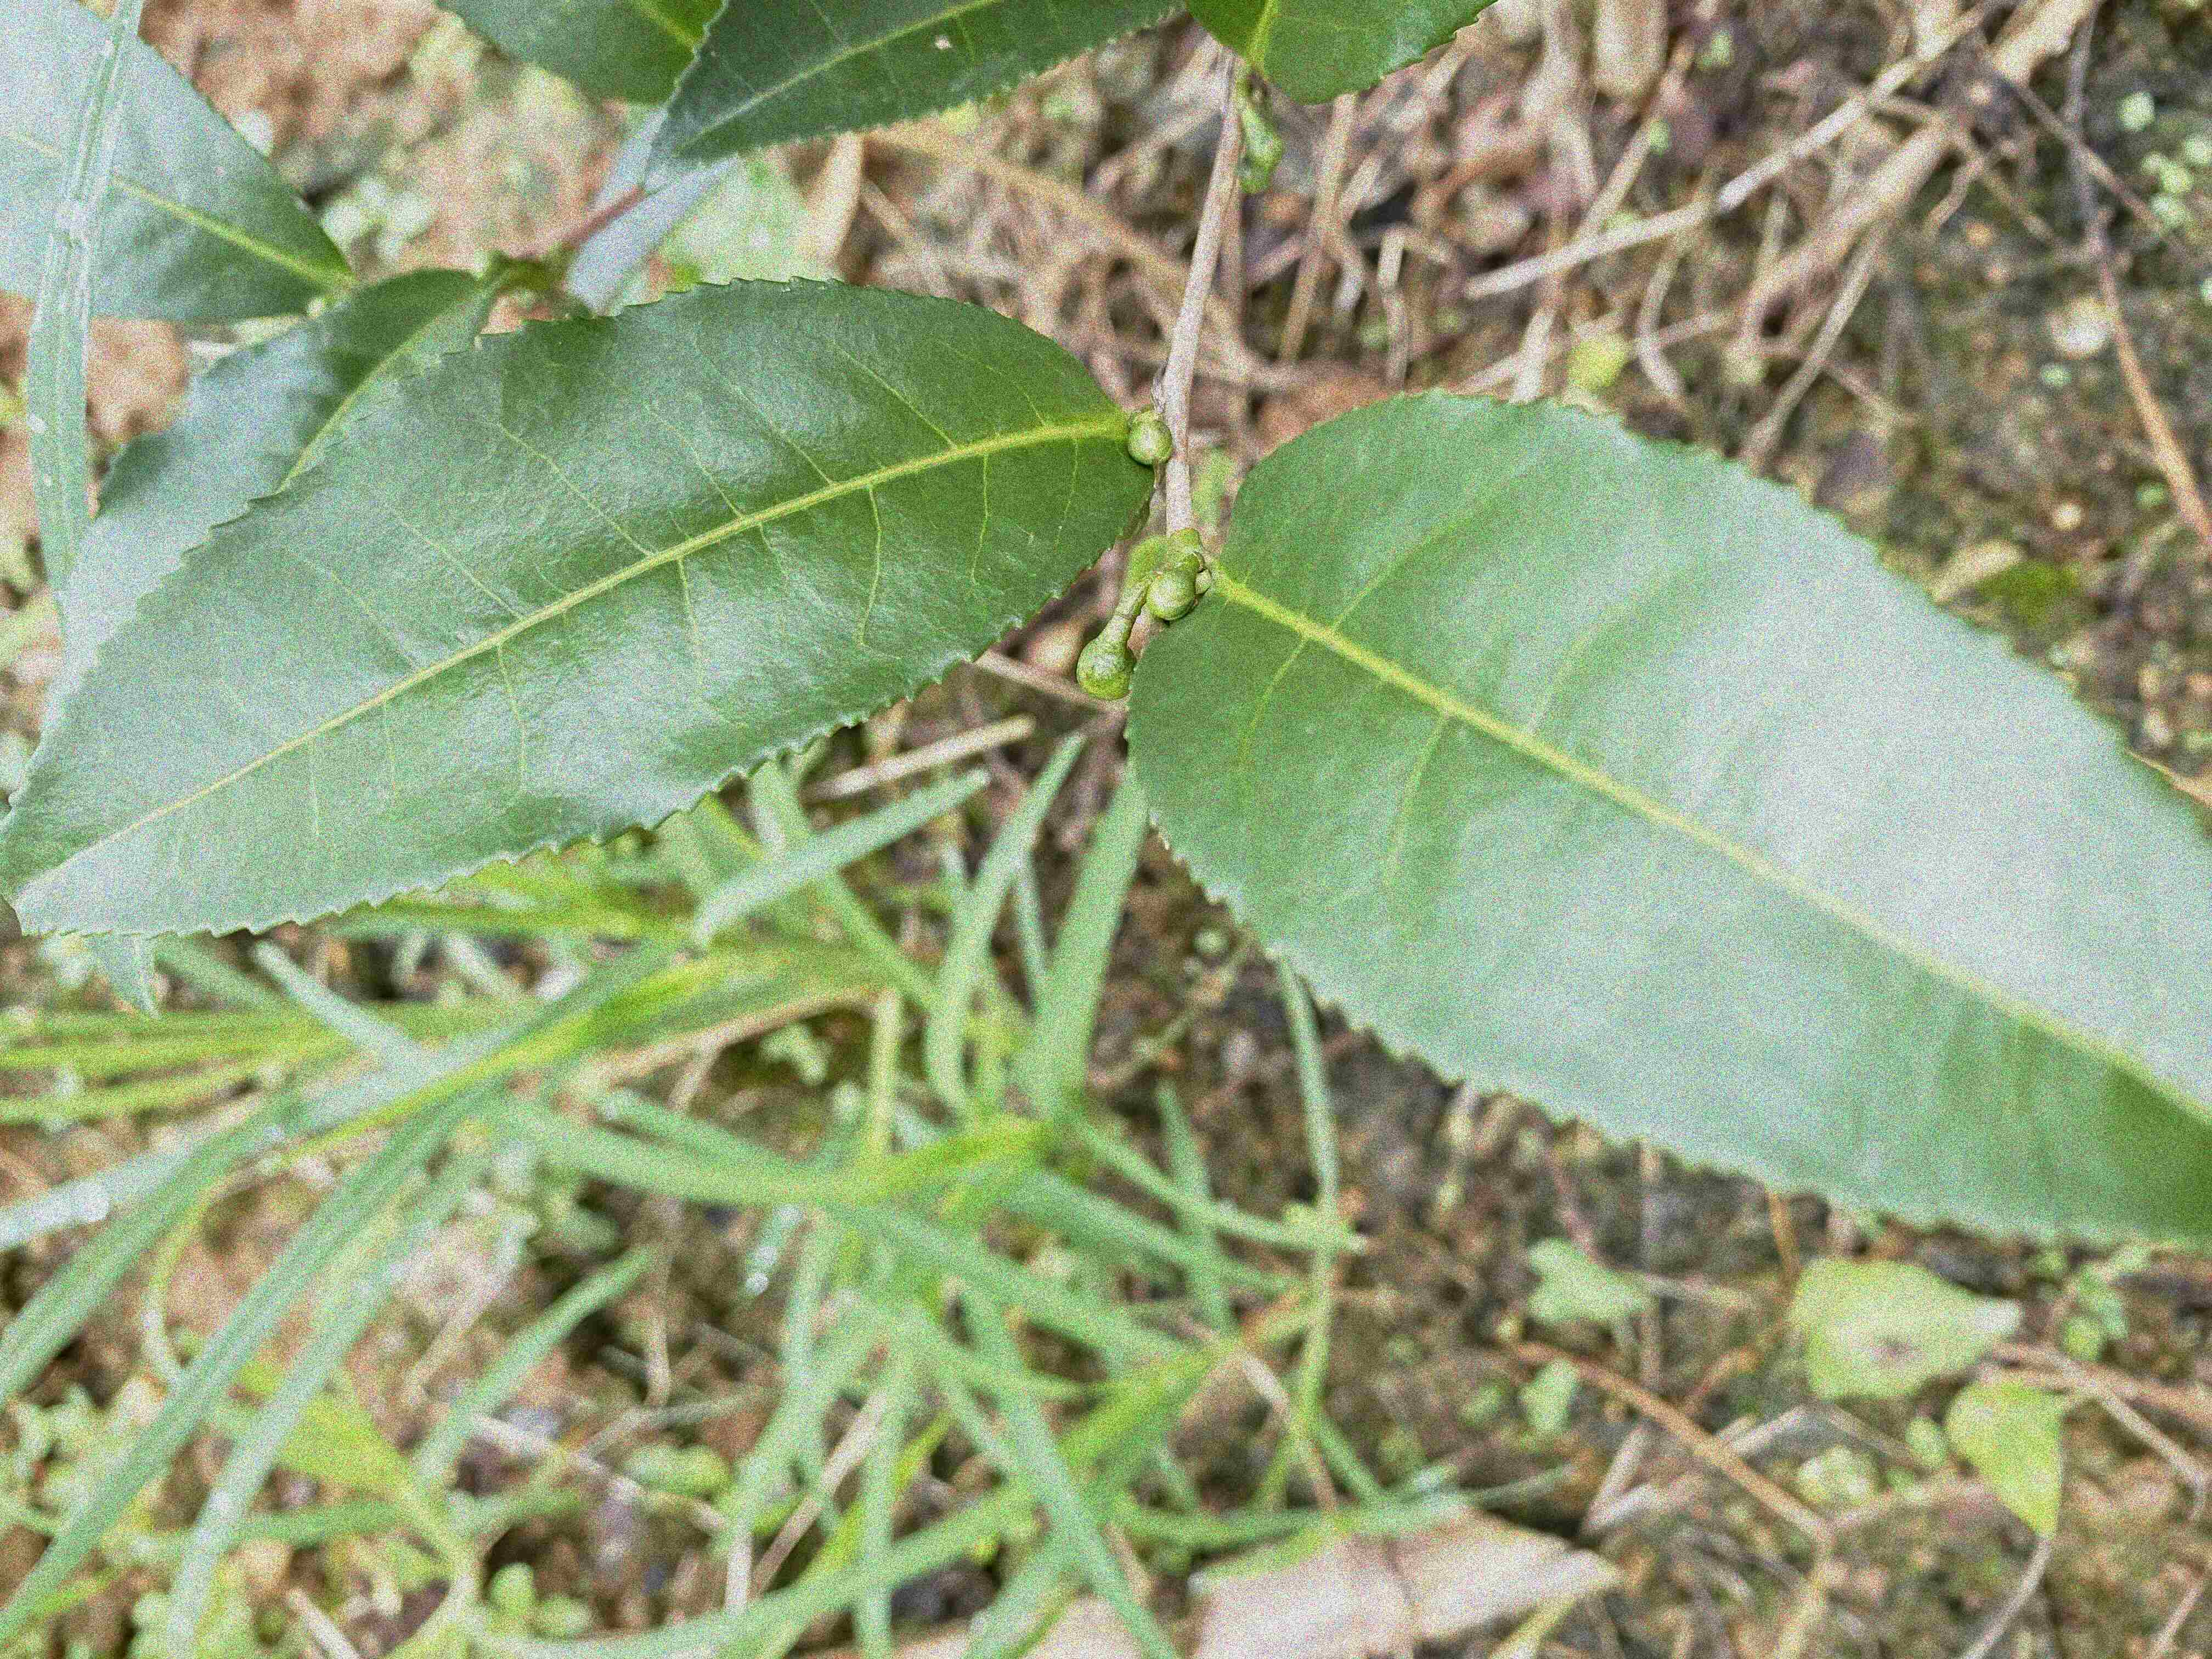healthy: (1122, 385, 2207, 1253), (21, 274, 1160, 939)
